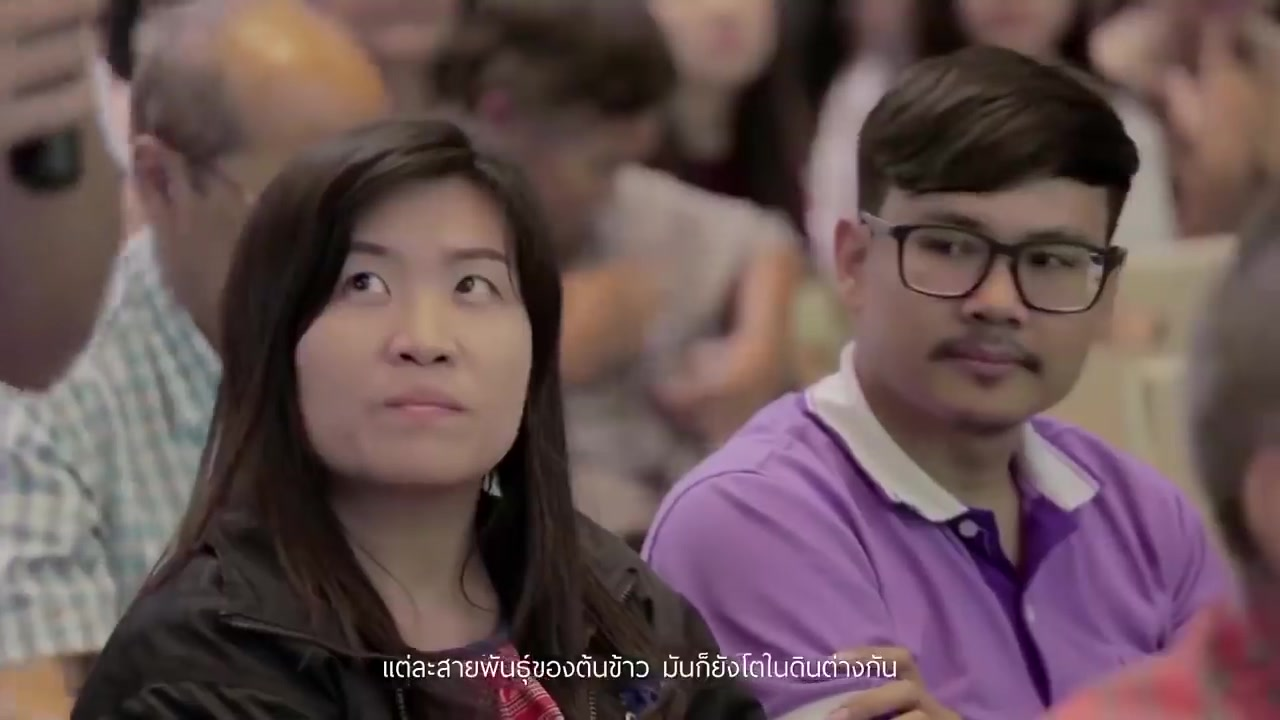text-label: (377, 647, 901, 684)
